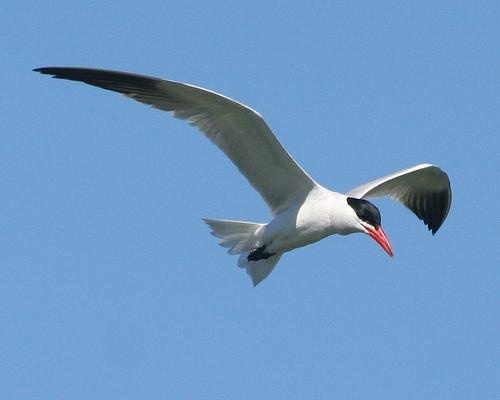bird: (39, 62, 452, 287)
